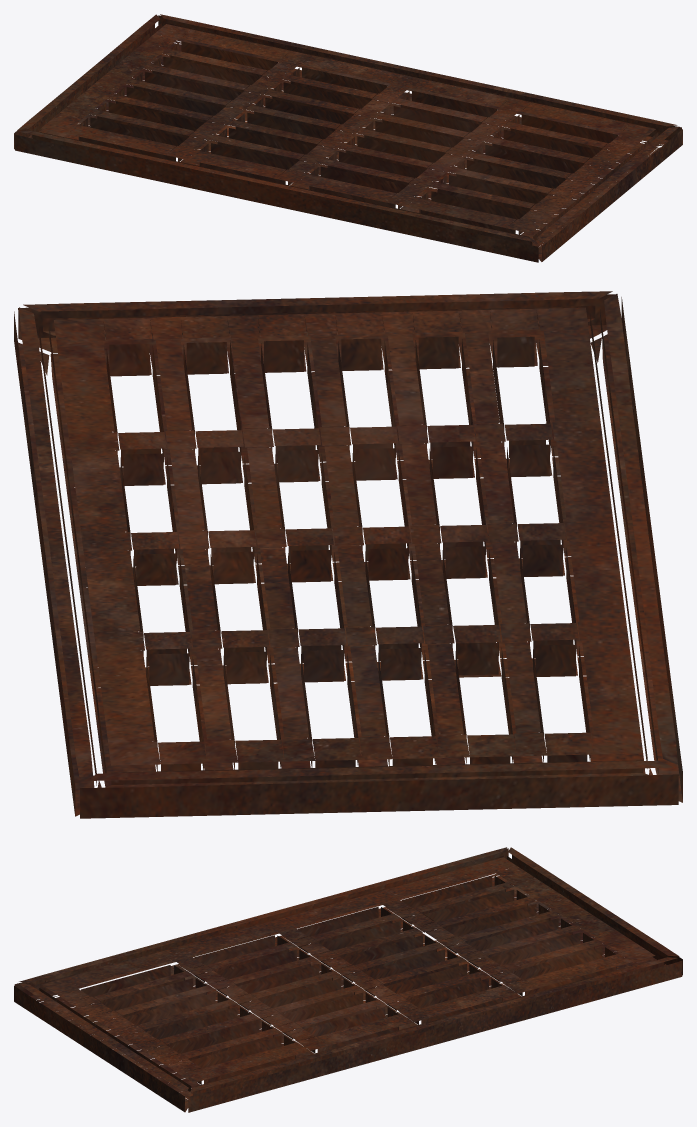
File: storm_drain.glb
The picture shows the model from 3 angles, top to bottom: view 1: azimuth 30°, elevation 25°; view 2: azimuth 150°, elevation 25°; view 3: azimuth 270°, elevation 25°; orthographic projection. The views are drawn at different scales.
Visible parts, largest first — view 1: storm_drain; view 2: storm_drain; view 3: storm_drain.
Boxes of the visible parts, x1,y1,x2,y2 form: storm_drain: (14, 14, 682, 262); storm_drain: (14, 291, 682, 818); storm_drain: (14, 847, 682, 1112).
Bounding box in the file's own units: 1.17 × 0.0409 × 1.33.
1 material, 1 textured.
